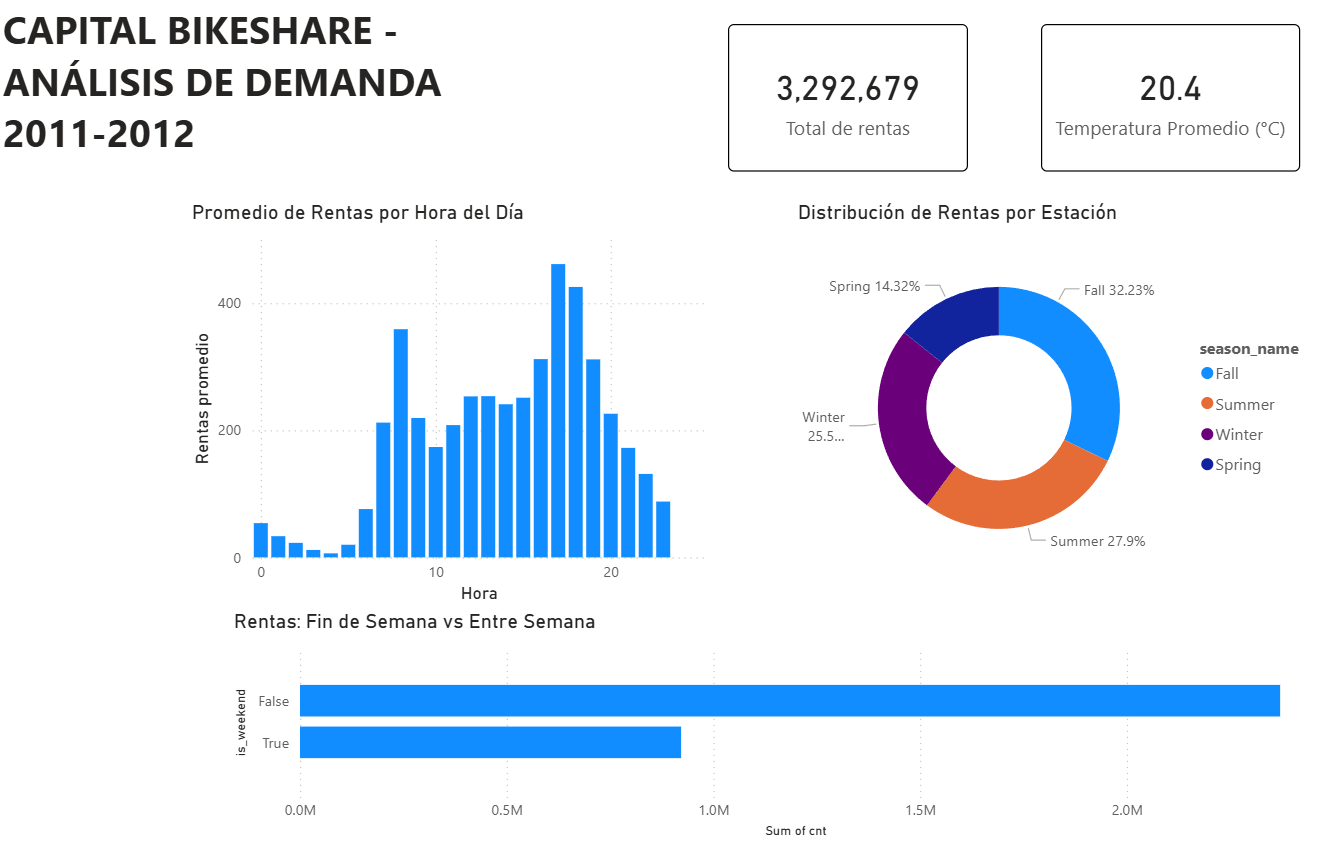

What the dashboard file says about the page in this screenshot:
{"tool":"powerbi","page":{"name":"Page 1","canvas":[1280,720],"ordinal":0},"visuals":[{"type":"textbox","box":[10,290,280,280],"z":0},{"type":"card","fields":{"Values":["Sum(processed.cnt)"]},"box":[609.2,23.3,200,123.3],"z":1000},{"type":"clusteredColumnChart","title":"Promedio de Rentas por Hora del Día","fields":{"Category":["processed.hr"],"Y":["Avg(processed.cnt)"]},"box":[157.5,170,439.2,340.8],"z":2000},{"type":"donutChart","title":"Distribución de Rentas por Estación","fields":{"Category":["processed.season_name"],"Y":["Sum(processed.cnt)"]},"box":[662.5,170,445.8,327.5],"z":3000},{"type":"card","fields":{"Values":["Avg(processed.temp_celsius)"]},"box":[870,23.3,215.8,123.3],"z":4000},{"type":"barChart","title":"Rentas: Fin de Semana vs Entre Semana","fields":{"Category":["processed.is_weekend"],"Y":["Sum(processed.cnt)"]},"box":[192.5,510.8,905.8,195],"z":4001},{"type":"textbox","box":[0,0,384.2,170],"z":4002}]}

Visuals, with their boxes on the page's 1280x720 design canvas (x1, y1, x2, y2). These are canvas units, not pixel positions in the 1336x845 screenshot, which may show the page scaled, cropped or inside an application window:
textbox: (10, 290, 290, 570)
card - Sum(processed.cnt): (609, 23, 809, 147)
"Promedio de Rentas por Hora del Día" clusteredColumnChart: (158, 170, 597, 511)
"Distribución de Rentas por Estación" donutChart: (662, 170, 1108, 498)
card - Avg(processed.temp_celsius): (870, 23, 1086, 147)
"Rentas: Fin de Semana vs Entre Semana" barChart: (192, 511, 1098, 706)
textbox: (0, 0, 384, 170)
